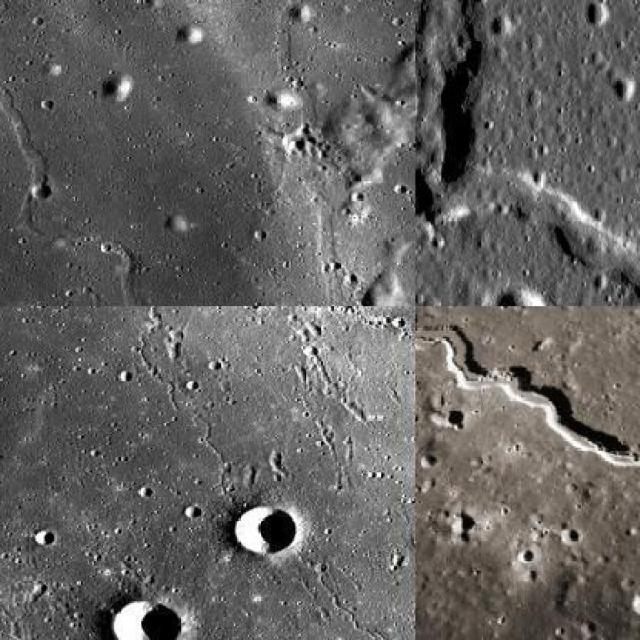rille: (0, 0, 215, 304), (0, 306, 232, 495), (416, 306, 638, 480), (426, 172, 639, 292), (274, 0, 348, 305), (195, 562, 414, 638)
